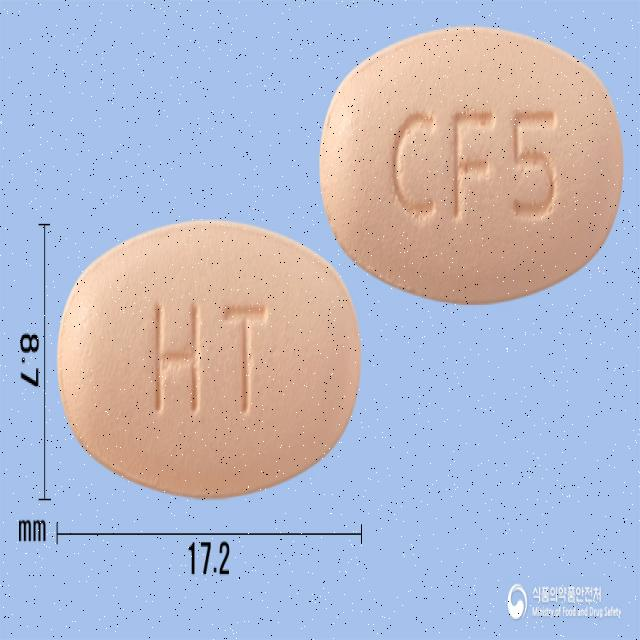Crafroxin Tab: (57, 218, 361, 502), (318, 23, 624, 304)
